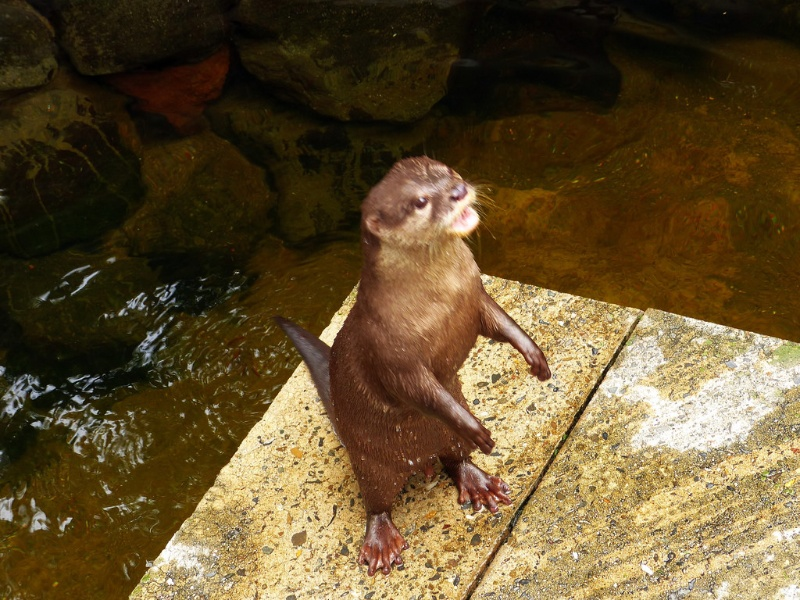minkish: (272, 150, 558, 565)
